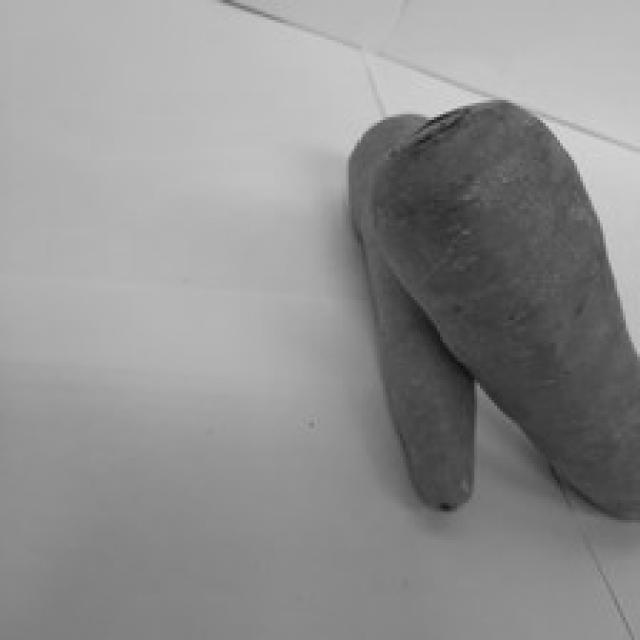Fresh_Carrot: (330, 124, 528, 491)
